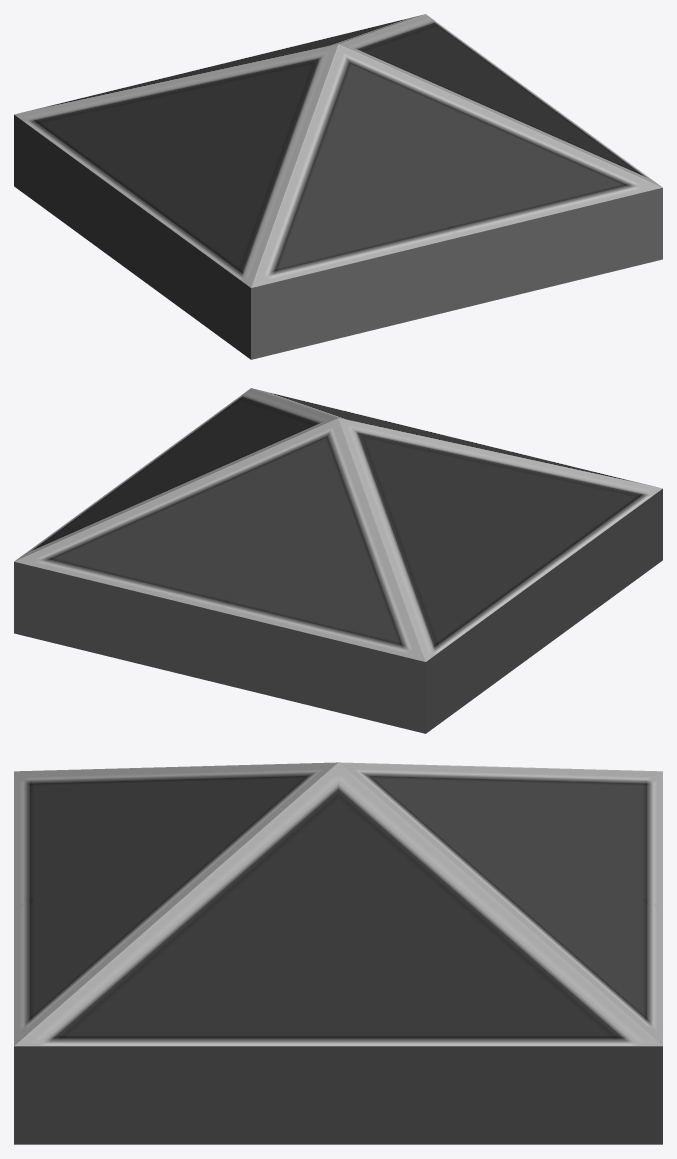
The model's file is SM_Window_Roof_01.fbx.
3 views of the same model, one above another, from view 1: azimuth 30°, elevation 25°; view 2: azimuth 150°, elevation 25°; view 3: azimuth 270°, elevation 25° (orthographic). The views are drawn at different scales.
Parts seen in each view (by area): view 1: SM_Window_Roof_01; view 2: SM_Window_Roof_01; view 3: SM_Window_Roof_01.
Part boxes in pixels (x1=…): SM_Window_Roof_01: x1=14, y1=14, x2=662, y2=359; SM_Window_Roof_01: x1=14, y1=388, x2=662, y2=733; SM_Window_Roof_01: x1=14, y1=762, x2=662, y2=1144.
Bounding box in the file's own units: 1.93 × 0.7998 × 1.92.
